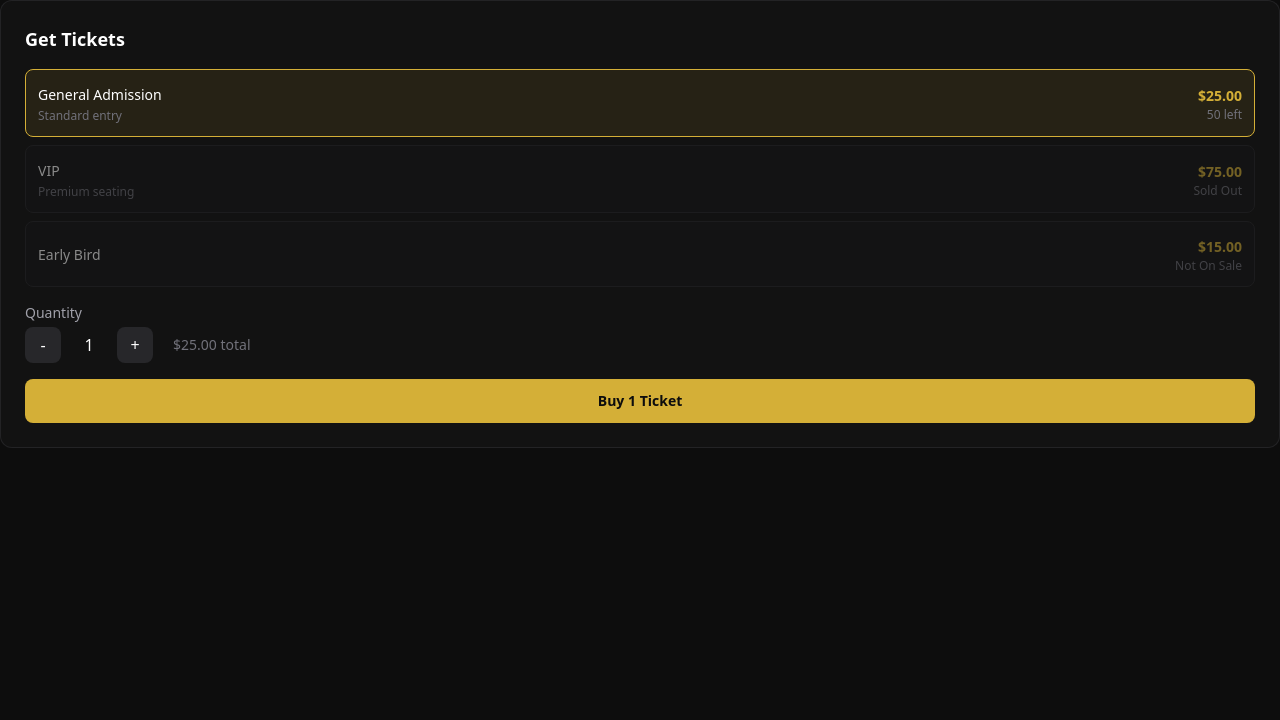
TicketPurchaseWidget › purchases tickets successfully
Expected: the heading "Get Tickets" is shown, [25,27,125,51]
Click the button "Buy 1 Ticket": coordinates (640, 401) [25,379,1255,423]
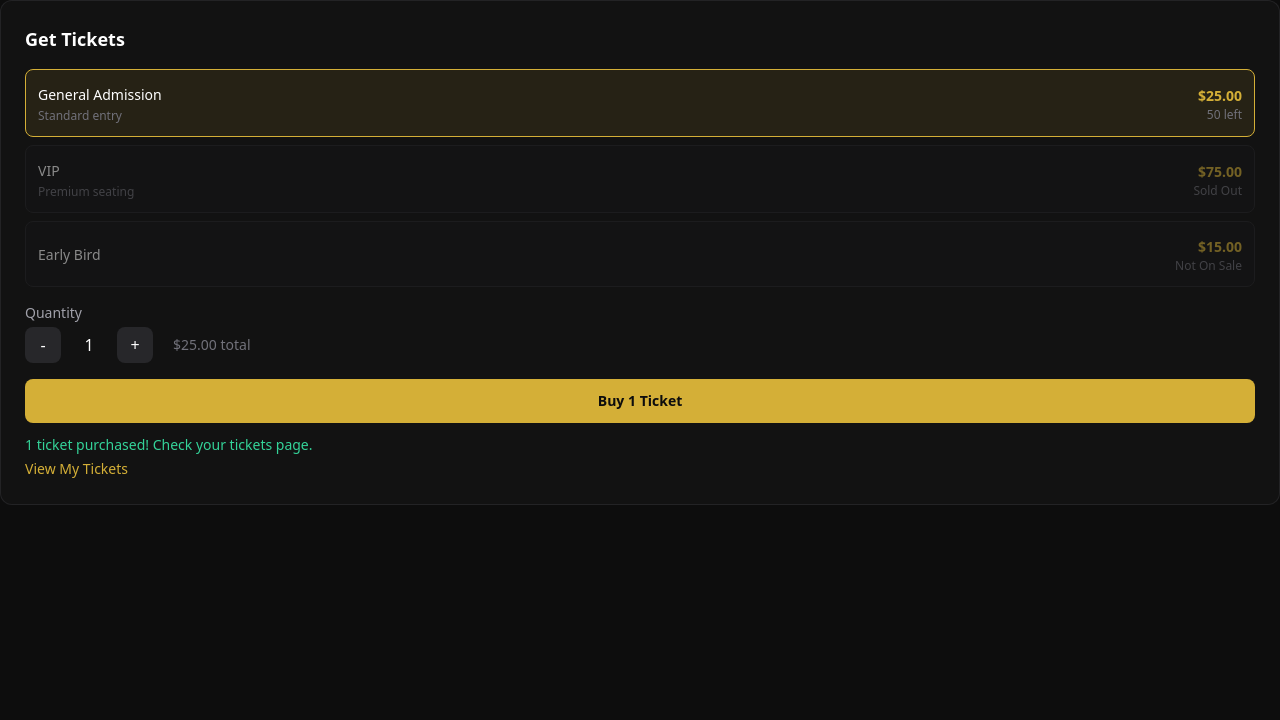
Expected: the text "1 ticket purchased! Check your tickets page." is shown, [25,435,312,454]
